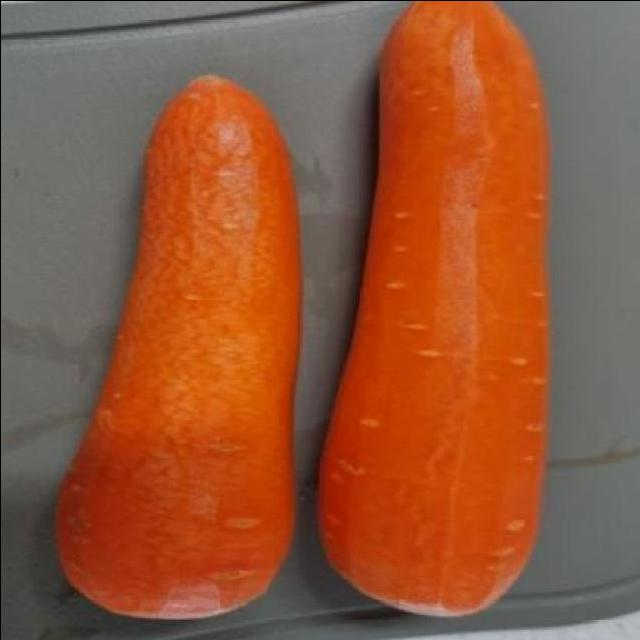carrot: (311, 1, 568, 635), (42, 66, 304, 630)
